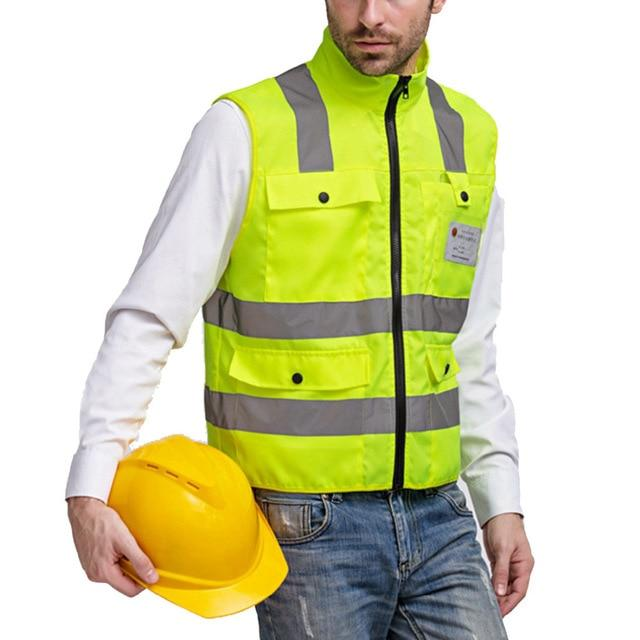Reflective-Jacket: (196, 44, 502, 514)
Safety-Helmet: (106, 431, 291, 624)
